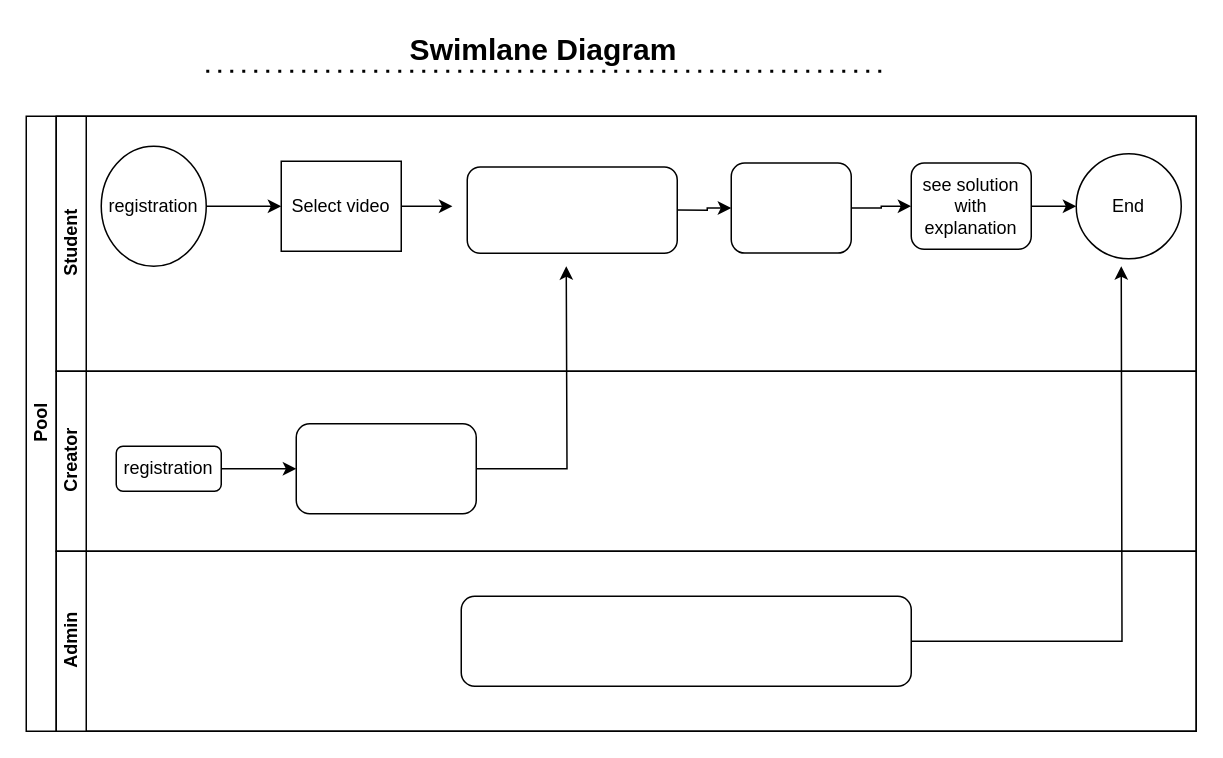
Some shapes in this 1223 by 758 pixel diagram are drawn without their labels. The centre of each missing label's shape, as x and y in pixels:
"Answer the questions" belongs at [571,209].
"Modification of user and creator" belongs at [685,640].
"Subscription" belongs at [790,207].
"Upload quiz and solution with video link" belongs at [385,468].
